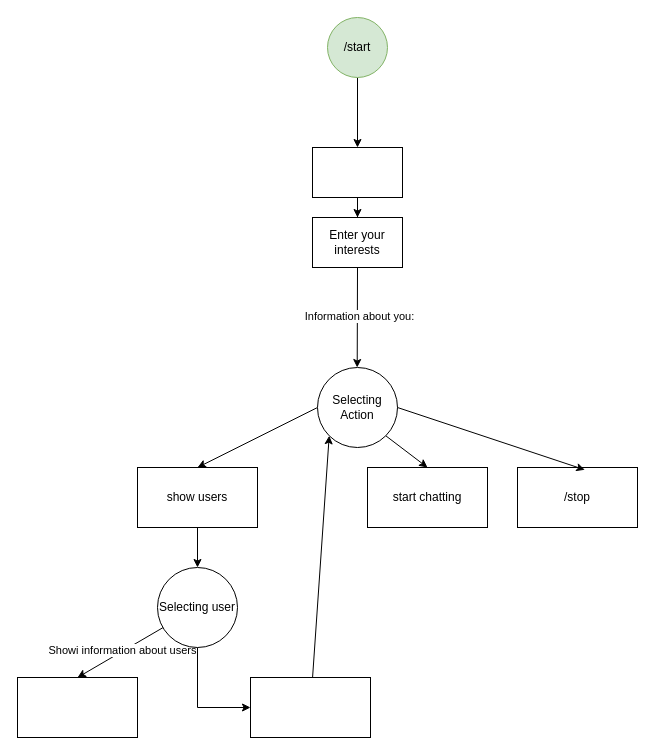
This 655x755 diagram has some shape labels left out. The shapes that lost their labels are listed below. From the top down, each one's centre as x and y in pixels, then its label:
At (357,172): "Enter your name".
At (77,707): "chat with chosen user".
At (310,707): "Back".
